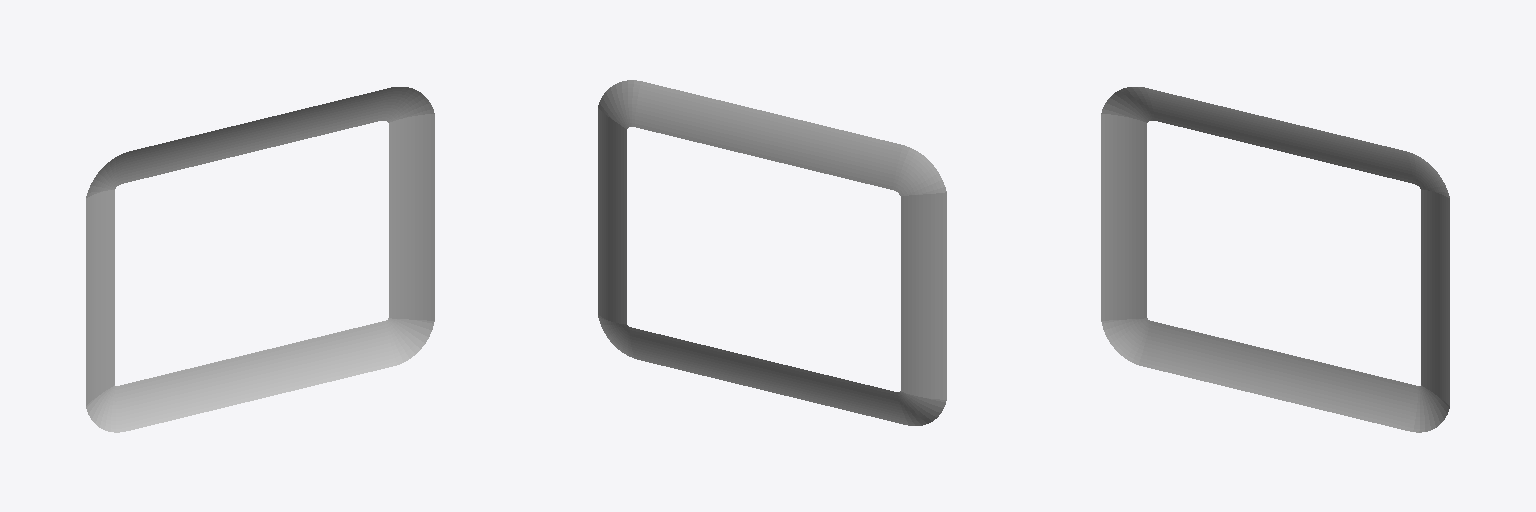
File: original-242.obj
The picture shows the model from 3 angles: view 1: azimuth 30°, elevation 25°; view 2: azimuth 150°, elevation 25°; view 3: azimuth 330°, elevation 25°; orthographic projection.
Visible parts, largest first — view 1: #ID1352; view 2: #ID1352; view 3: #ID1352.
Boxes of the visible parts, x1,y1,x2,y2 form: #ID1352: [86, 87, 434, 432]; #ID1352: [598, 80, 946, 425]; #ID1352: [1101, 87, 1449, 432].
Size of the model in its own units: 0.0598 by 0.0457 by 0.0026.